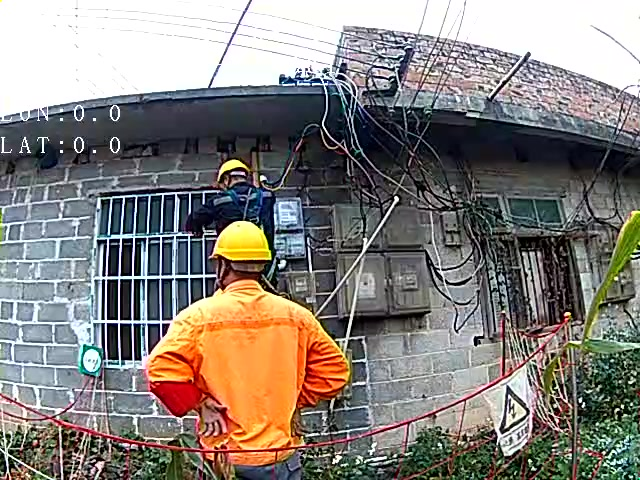badge: (144, 377, 198, 413)
halt: (209, 220, 273, 286), (217, 159, 252, 191)
hand: (193, 396, 230, 438)
inear: (213, 257, 231, 281)
person: (146, 218, 350, 480), (183, 160, 277, 230)
upsuit: (192, 189, 272, 226)
yupsuit: (140, 285, 347, 465)
